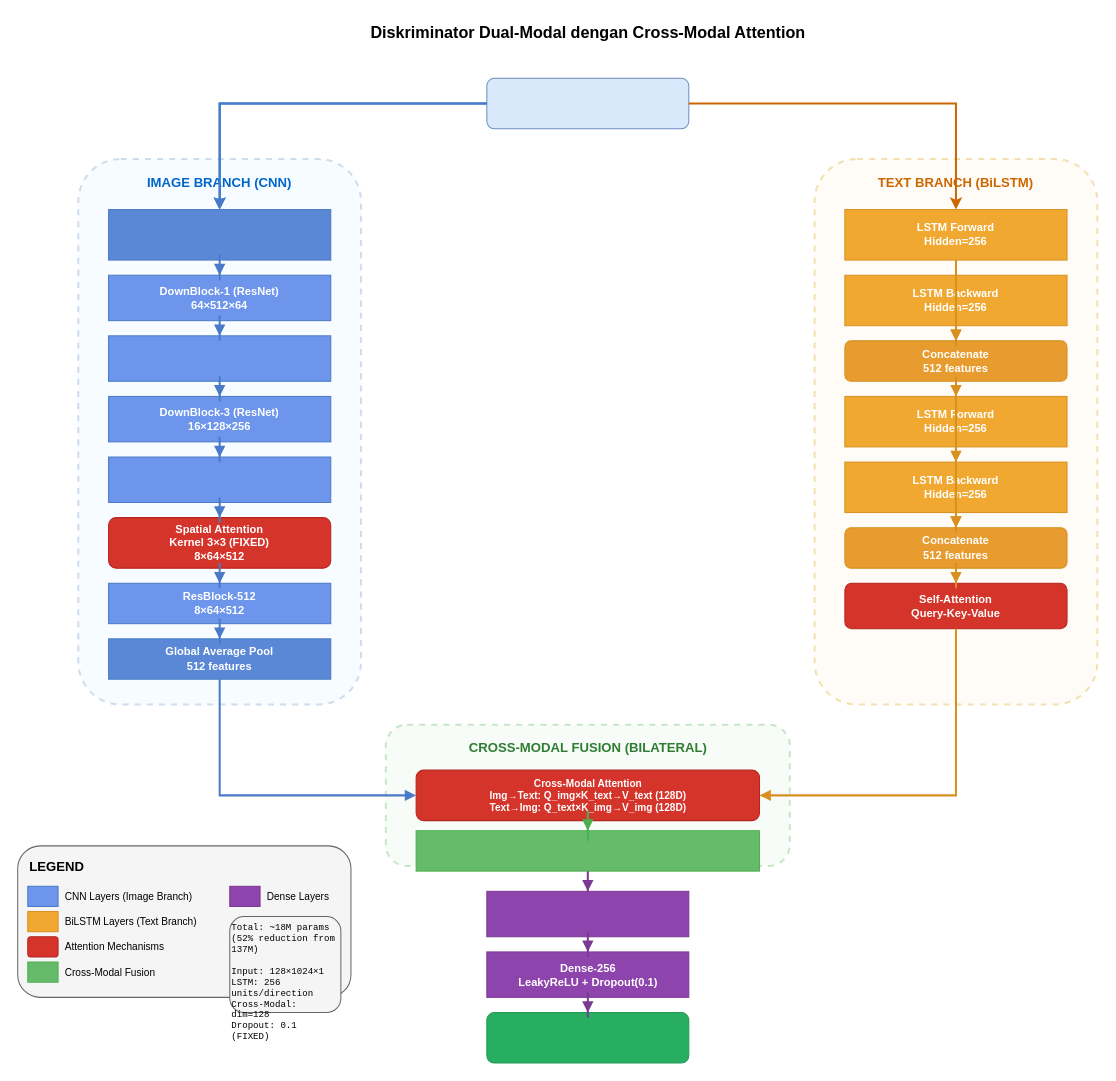
Some shapes in this 1116 by 1081 pixel diagram are drawn without their labels. Each missing label, with the centre of its shape:
Concatenate Attended Features [F_img_att (128), F_text_att (128)] = 256: the point at 587,850
Conv2D-Init + BN 128×1024×64 LeakyReLU (α=0.2): the point at 219,234
Dense-512 LeakyReLU + Dropout(0.1): the point at 587,913
DownBlock-2 (ResNet) 32×256×128: the point at 219,358
DownBlock-4 (ResNet) 8×64×512: the point at 219,479
Input Image 128×1024×1: the point at 587,103
Output (Sigmoid) Real/Fake [0,1]: the point at 587,1037
